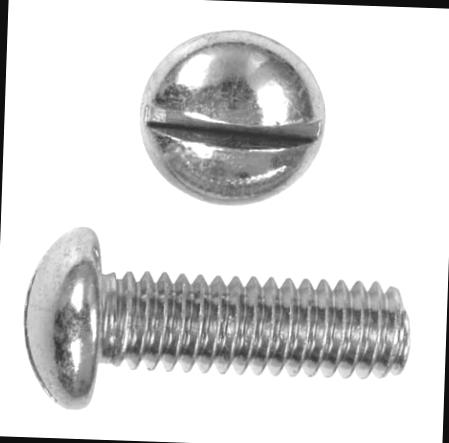screw: (137, 29, 322, 211)
